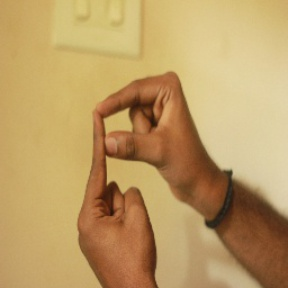P: (77, 69, 198, 234)
